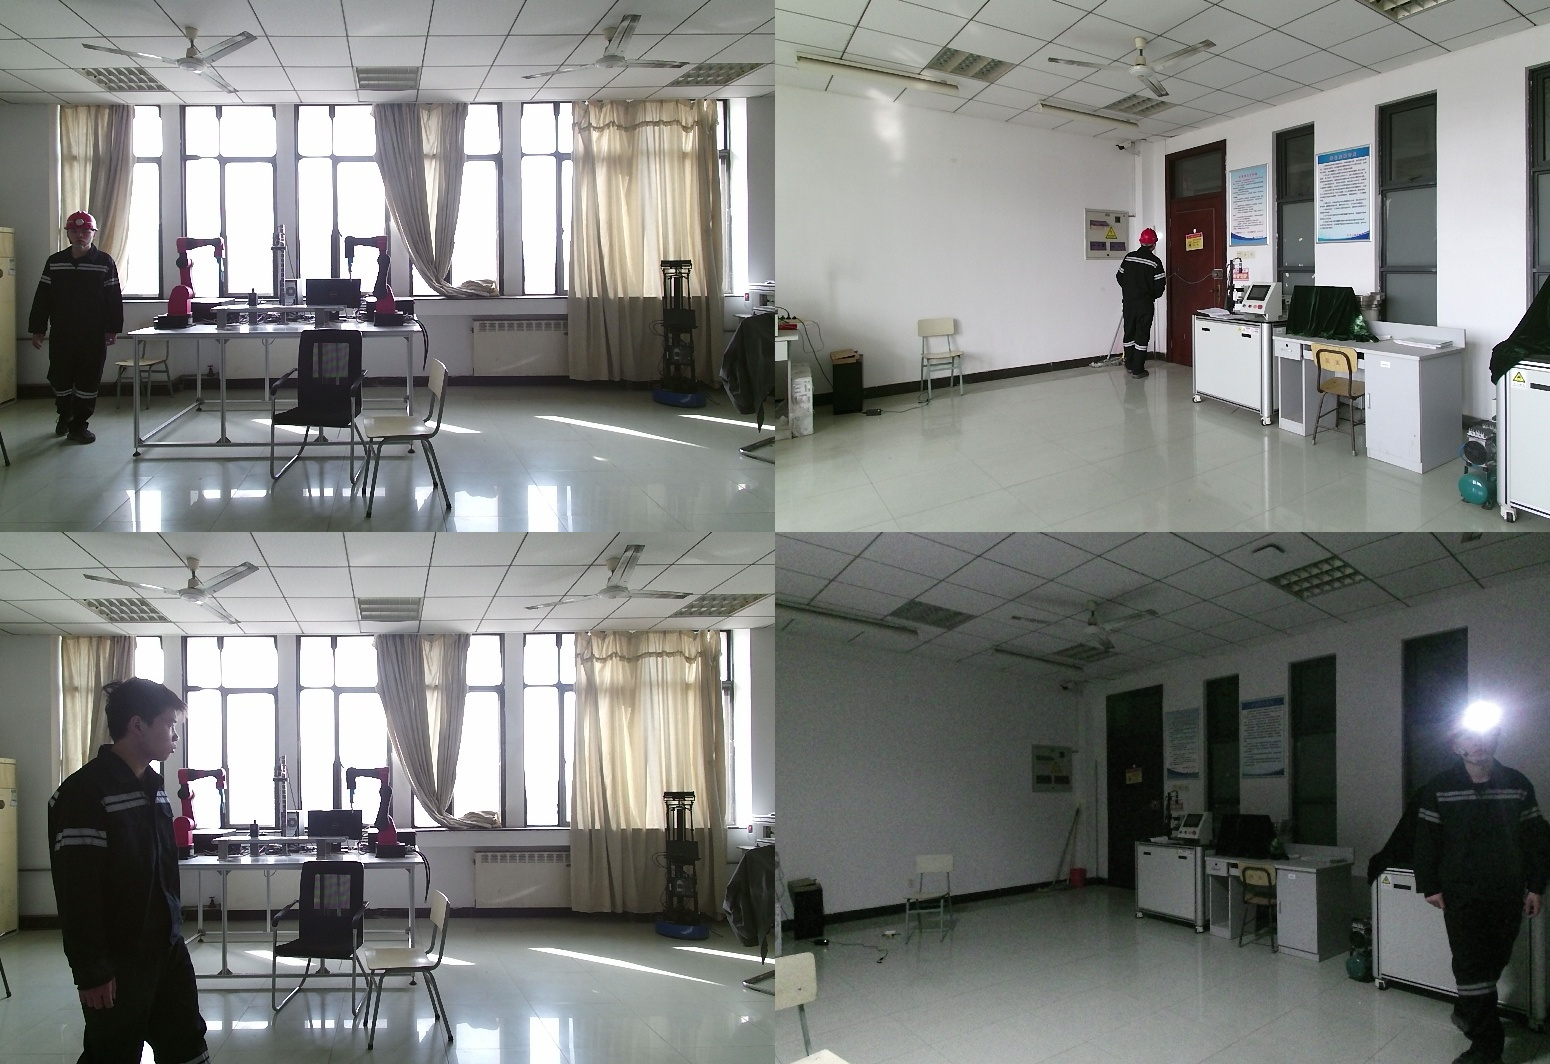person: (51, 679, 218, 1064), (1419, 710, 1545, 1064), (29, 212, 126, 445), (1114, 229, 1171, 382)
